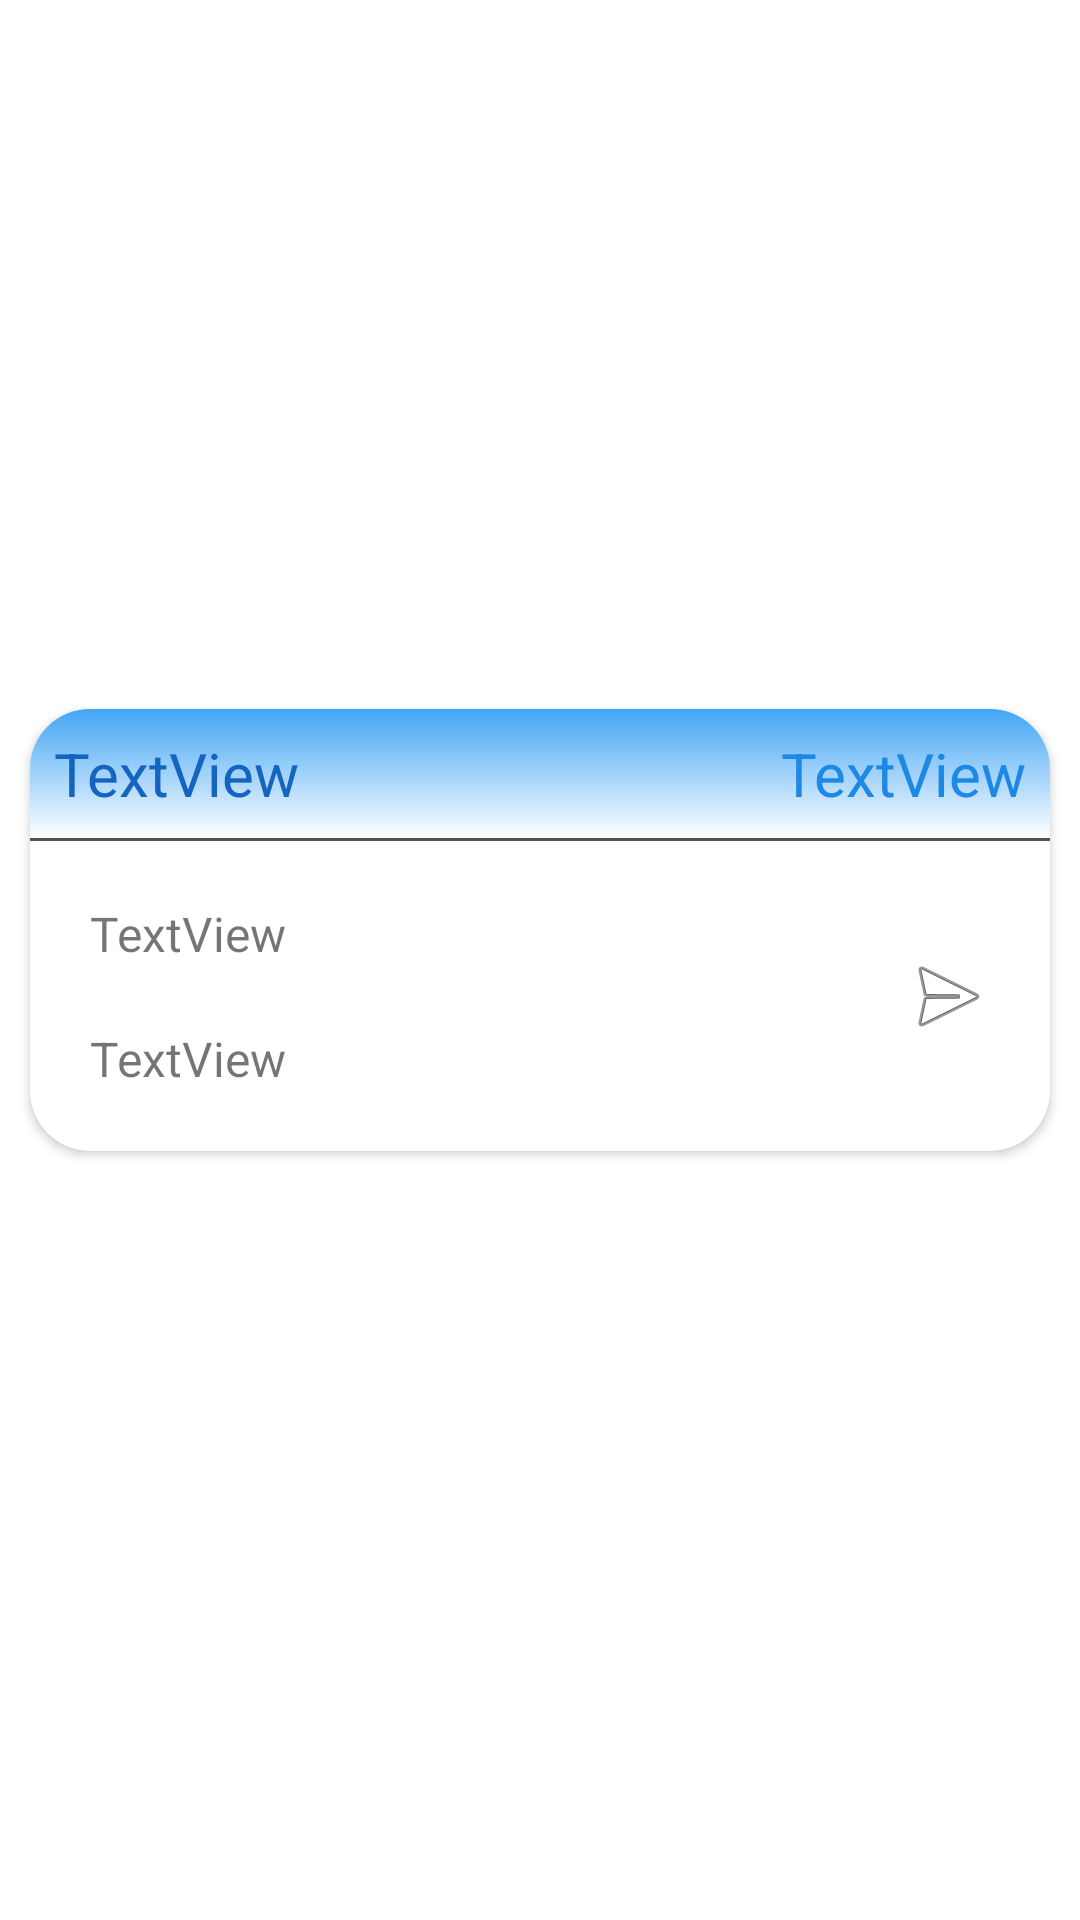

Screen size 1080x1920. Icon name, then its center in pixels as (x,y):
send: (949,996)
